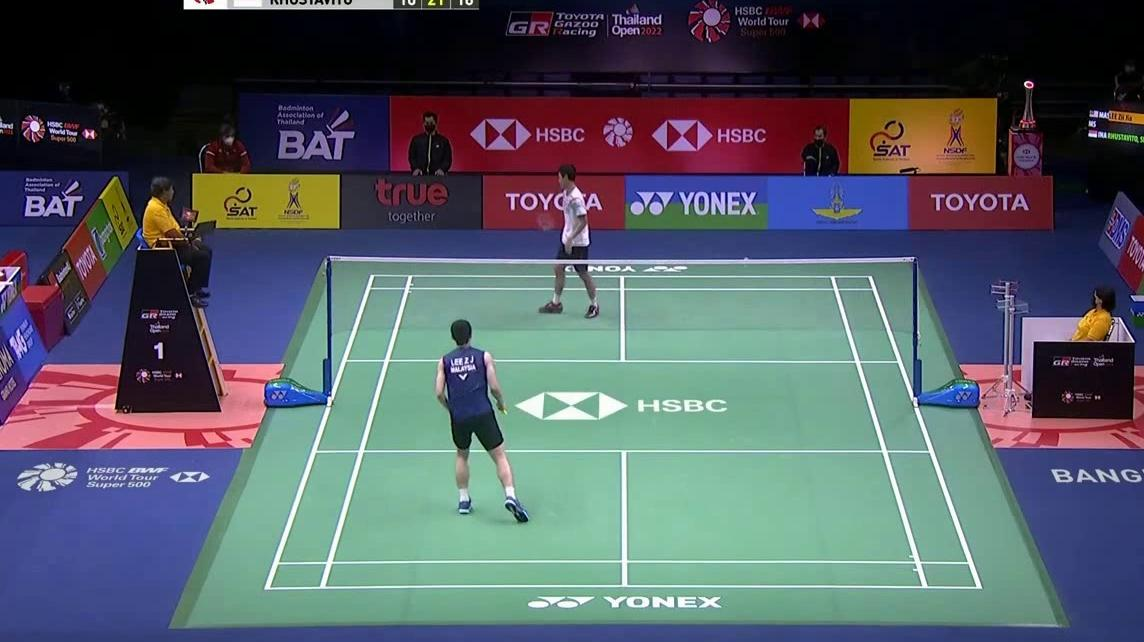racket: (534, 208, 577, 248), (493, 398, 512, 419)
shuttle: (741, 254, 750, 267)
